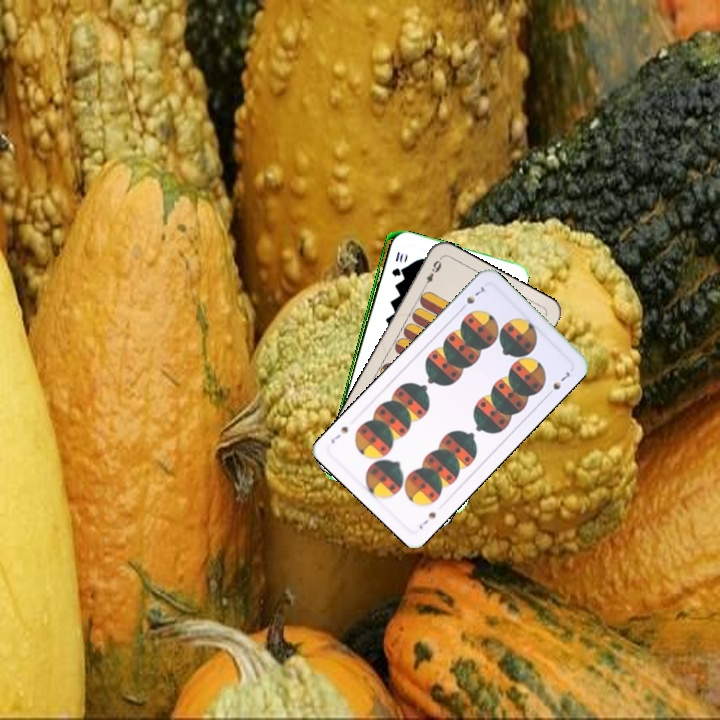E9: (419, 255, 444, 292)
G10: (387, 248, 402, 279)
S7: (456, 282, 487, 313), (415, 508, 439, 532)
